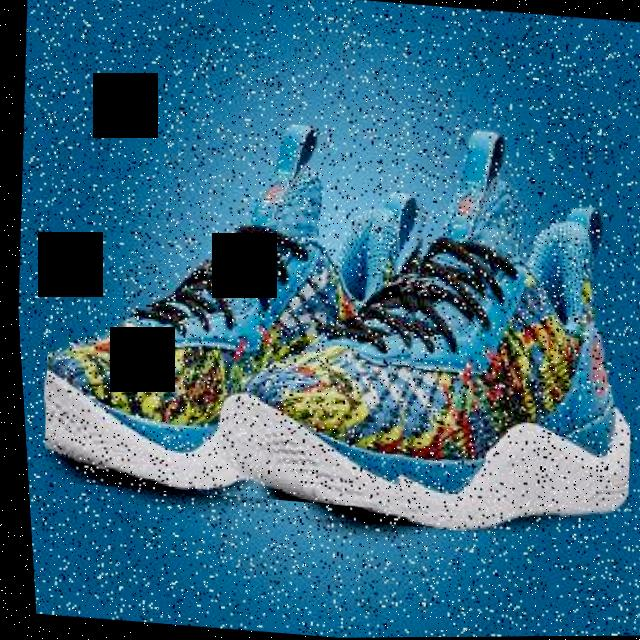shoe: (215, 120, 640, 546), (19, 102, 448, 514)
